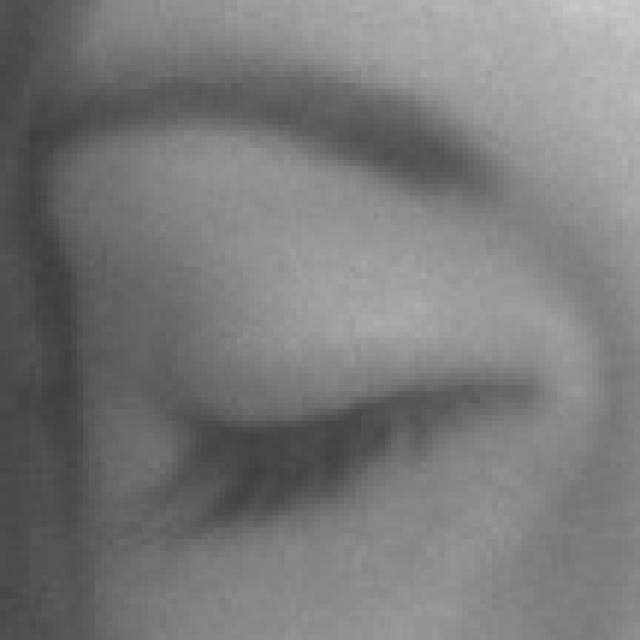Eyeclosed: (157, 215, 536, 626)
